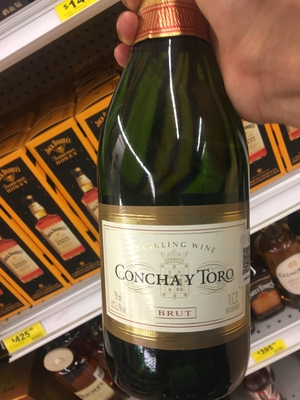brut: (92, 14, 264, 379)
